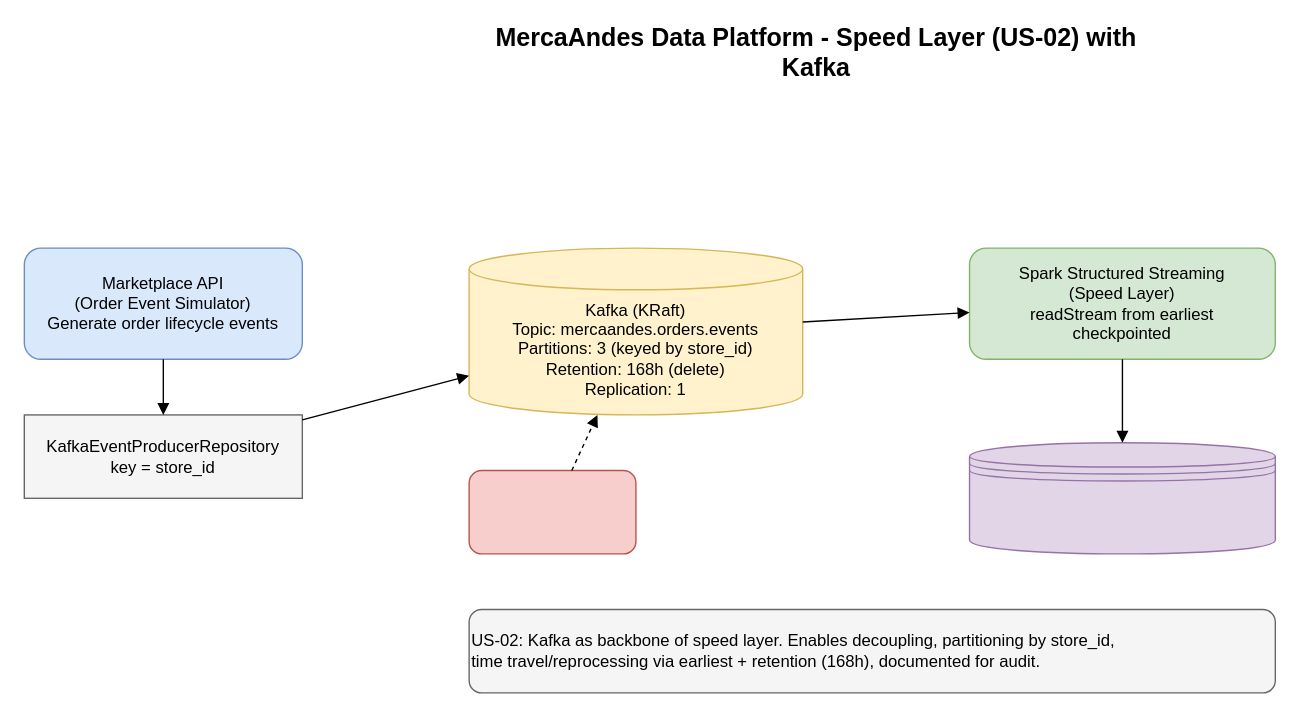
This 1300x717 diagram has some shape labels left out. Each missing label, with the box of its shape:
Bronze / Speed Layer Storage (Parquet/Delta): (968, 441, 1275, 554)
Kafka UI (Kafdrop) :9000: (468, 469, 636, 554)
